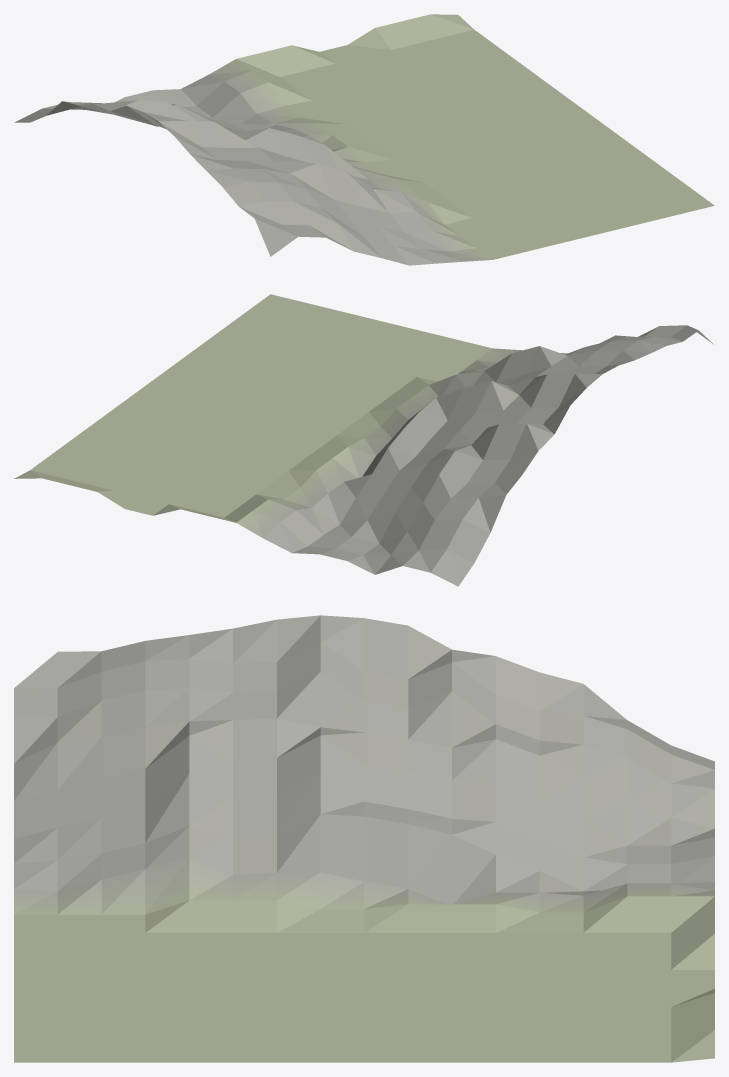
3 views of the same model, one above another, from view 1: azimuth 30°, elevation 25°; view 2: azimuth 150°, elevation 25°; view 3: azimuth 270°, elevation 25° (orthographic). The views are drawn at different scales.
Bounding box in the file's own units: 32 × 8.31 × 32.
